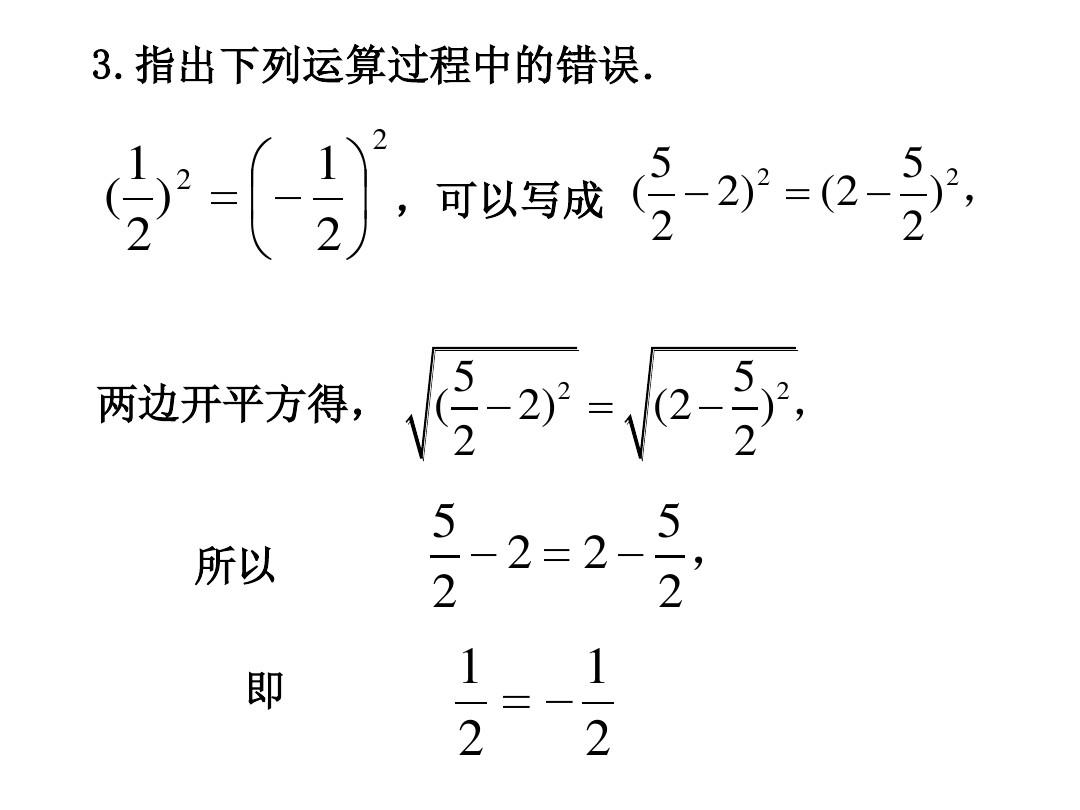division: (654, 547, 687, 566), (428, 547, 459, 563), (582, 695, 613, 711), (450, 698, 489, 710), (733, 400, 762, 416), (899, 187, 926, 203), (646, 189, 674, 202), (313, 192, 340, 205), (446, 403, 477, 414)
sqrt: (620, 343, 832, 461), (398, 342, 587, 466)
square: (772, 378, 794, 405), (173, 166, 194, 192), (368, 127, 388, 152), (753, 163, 771, 190), (944, 165, 960, 189), (557, 379, 568, 401)
